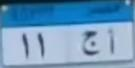1: (35, 30, 50, 59), (18, 31, 31, 59)
alif: (106, 27, 119, 55)
jeem: (79, 28, 101, 57)
